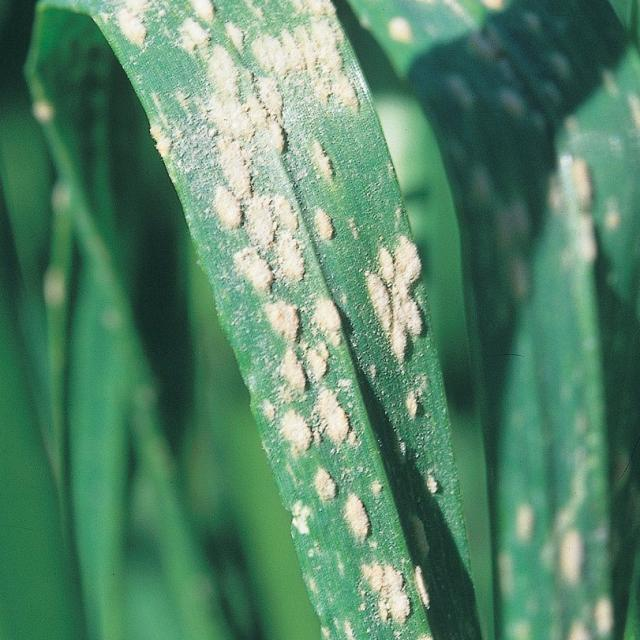wheat-powdery-mildew: (93, 0, 487, 640), (352, 0, 640, 640)
